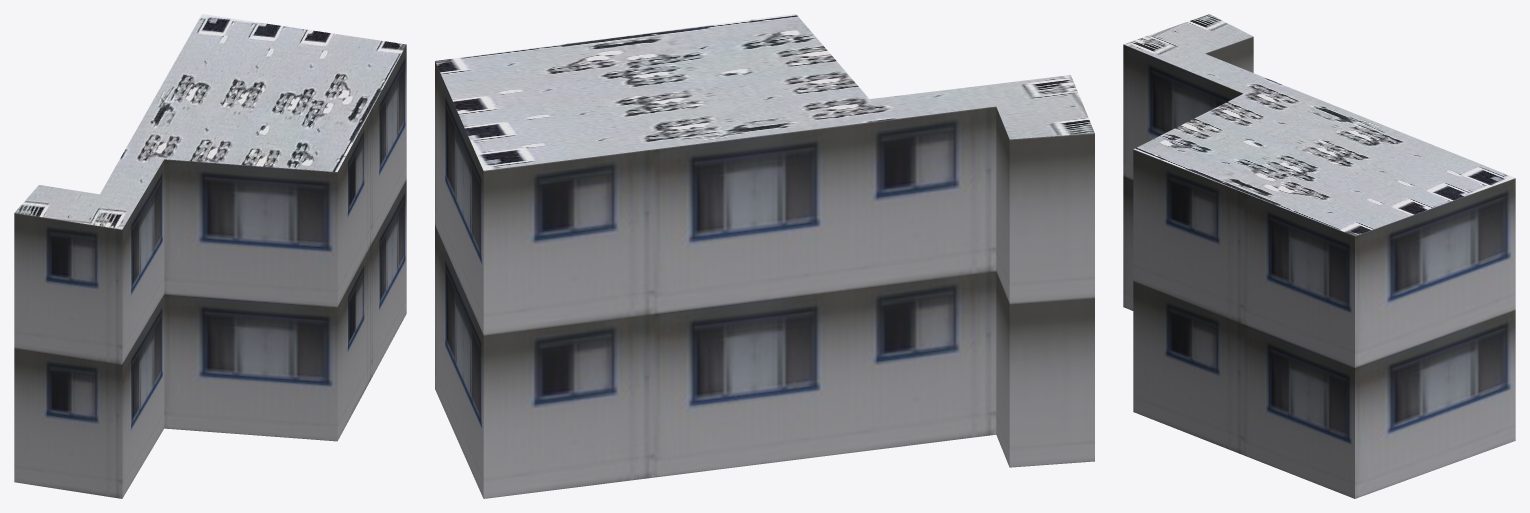
Rendered from ResTex__2883.fbx.
The picture shows the model from 3 angles, left to right: view 1: azimuth 30°, elevation 25°; view 2: azimuth 150°, elevation 25°; view 3: azimuth 270°, elevation 25°; orthographic projection. The views are drawn at different scales.
Visible parts, largest first — view 1: CityEngineMaterial_9_m, CityEngineMaterial_m; view 2: CityEngineMaterial_9_m, CityEngineMaterial_m; view 3: CityEngineMaterial_9_m, CityEngineMaterial_m.
Boxes of the visible parts, bbox=[...] form: CityEngineMaterial_9_m: bbox=[14, 45, 406, 498]; CityEngineMaterial_m: bbox=[14, 14, 406, 229]; CityEngineMaterial_9_m: bbox=[435, 61, 1094, 498]; CityEngineMaterial_m: bbox=[435, 14, 1094, 170]; CityEngineMaterial_9_m: bbox=[1123, 36, 1515, 498]; CityEngineMaterial_m: bbox=[1124, 14, 1514, 235].
Bounding box in the file's own units: 10.89 × 6 × 8.12.
2 materials, 2 textured.
